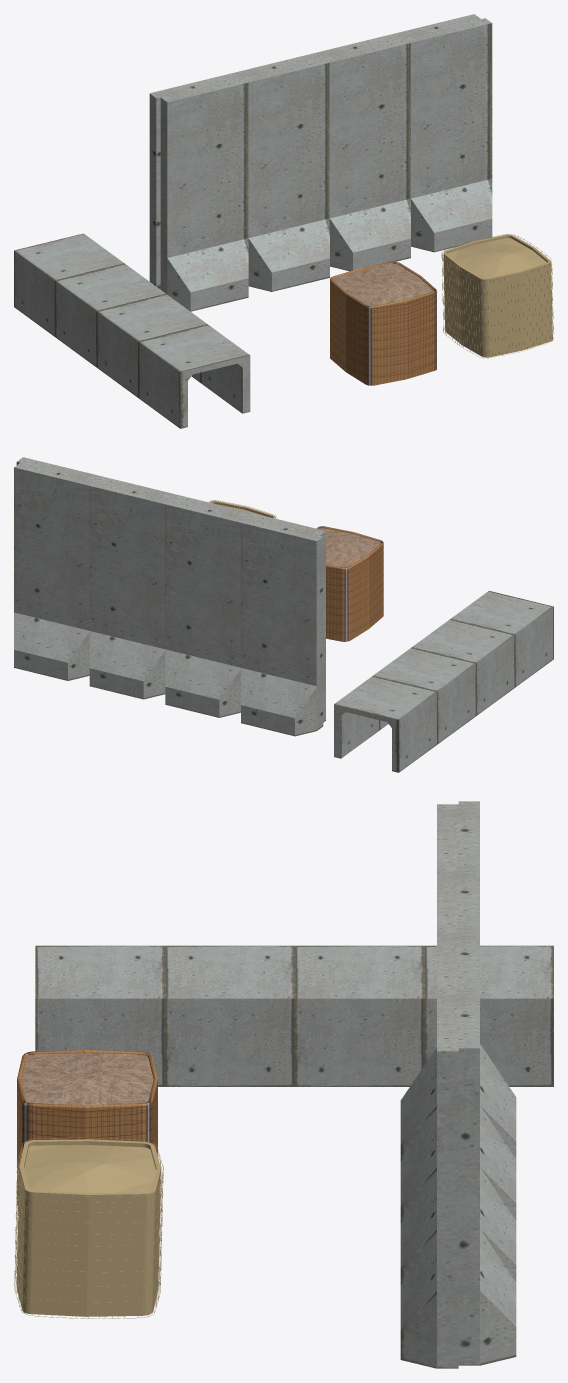
The model's file is Barriers_FBX.fbx.
3 views of the same model, one above another, from view 1: azimuth 30°, elevation 25°; view 2: azimuth 150°, elevation 25°; view 3: azimuth 270°, elevation 25° (orthographic). The views are drawn at different scales.
Visible parts, largest first — view 1: Bunker, T_Wall_4, T_Wall_2, T_Wall, T_Wall_3, Hesco_Detailed, Hesco_Simple; view 2: Bunker, T_Wall_4, T_Wall_3, T_Wall, T_Wall_2, Hesco_Simple; view 3: Bunker, Hesco_Detailed, T_Wall, Hesco_Simple, T_Wall_3, T_Wall_2, T_Wall_4.
Part boxes in pixels (<box>): Bunker: <box>14,233,250,428</box>; T_Wall_4: <box>149,73,248,311</box>; T_Wall_2: <box>231,53,329,291</box>; T_Wall: <box>393,14,492,252</box>; T_Wall_3: <box>312,34,410,271</box>; Hesco_Detailed: <box>441,234,553,358</box>; Hesco_Simple: <box>330,262,437,385</box>; Bunker: <box>334,591,553,772</box>; T_Wall_4: <box>241,512,325,736</box>; T_Wall_3: <box>89,475,173,699</box>; T_Wall: <box>14,457,98,680</box>; T_Wall_2: <box>165,494,249,717</box>; Hesco_Simple: <box>316,526,383,641</box>; Bunker: <box>35,945,553,1086</box>; Hesco_Detailed: <box>14,1137,163,1318</box>; T_Wall: <box>400,986,516,1368</box>; Hesco_Simple: <box>17,1050,157,1207</box>; T_Wall_3: <box>400,924,516,1285</box>; T_Wall_2: <box>400,863,516,1223</box>; T_Wall_4: <box>400,801,516,1161</box>.
Size of the model in its own units: 957 by 427 by 651.
Materials: 4 (3 with a texture image).
